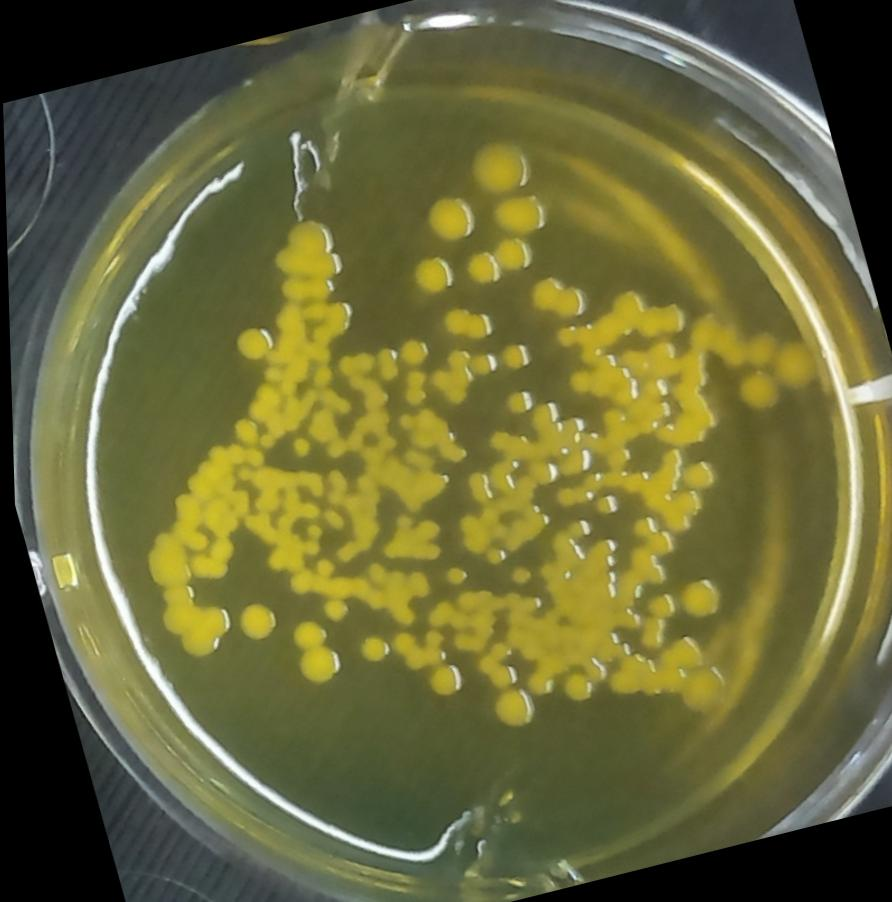vharveyi: (448, 126, 540, 209), (275, 612, 348, 694), (220, 317, 278, 369), (226, 593, 281, 647)
